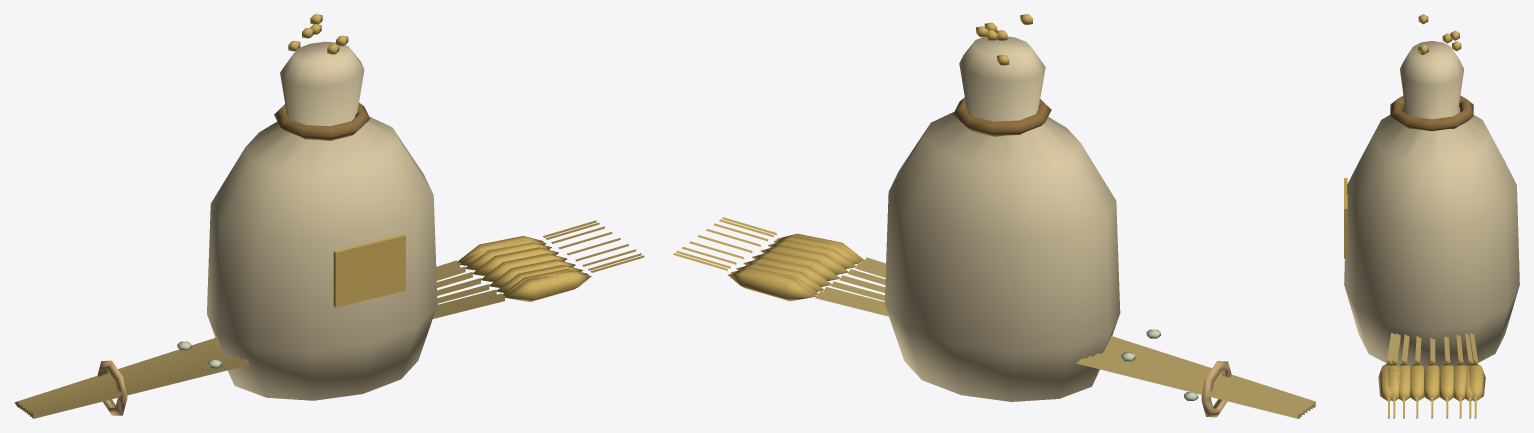
Rendered from Grain_Barley.fbx.
3 renders of one model, left to right at view 1: azimuth 30°, elevation 25°; view 2: azimuth 150°, elevation 25°; view 3: azimuth 270°, elevation 25°, orthographic. The views are drawn at different scales.
Parts seen in each view (by area): view 1: Grain_Barley__Stack, Grain_Barley; view 2: Grain_Barley__Stack, Grain_Barley; view 3: Grain_Barley__Stack, Grain_Barley.
Boxes of the visible parts, bbox=[...] form: Grain_Barley__Stack: bbox=[207, 14, 437, 400]; Grain_Barley: bbox=[15, 220, 644, 418]; Grain_Barley__Stack: bbox=[884, 14, 1120, 401]; Grain_Barley: bbox=[673, 217, 1315, 418]; Grain_Barley__Stack: bbox=[1344, 14, 1519, 368]; Grain_Barley: bbox=[1378, 332, 1485, 418].
Size of the model in its own units: 0.34 by 0.188 by 0.096.
